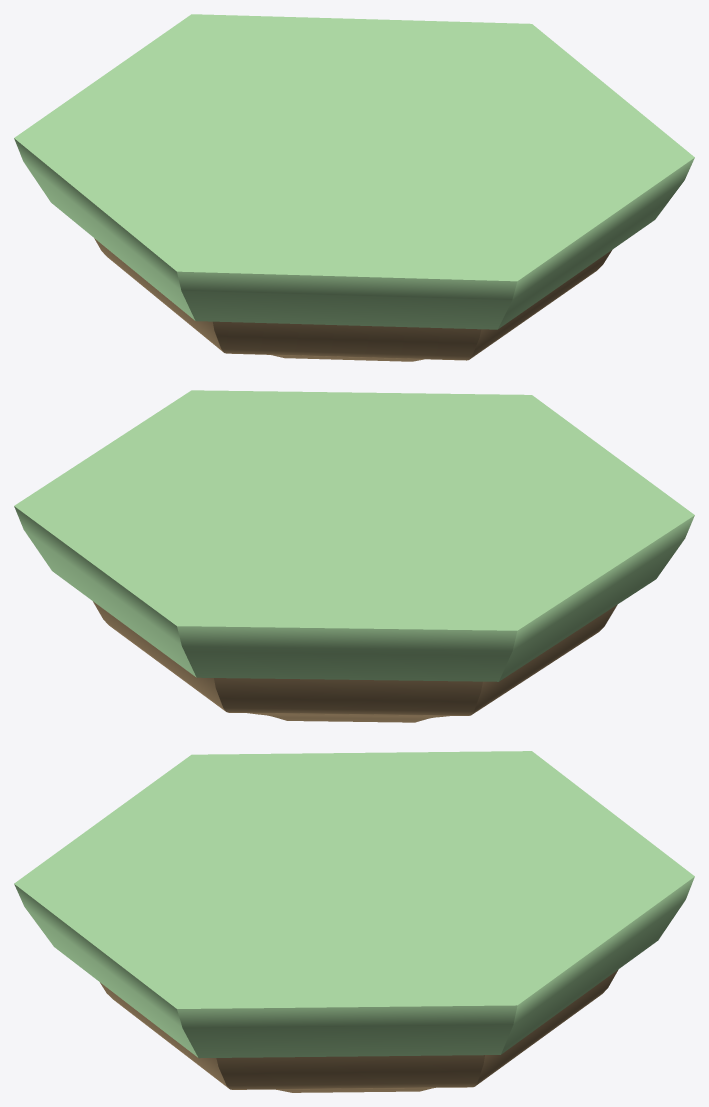
File: platform.glb
3 views of the same model, one above another, from view 1: azimuth 30°, elevation 25°; view 2: azimuth 150°, elevation 25°; view 3: azimuth 270°, elevation 25° (orthographic).
Visible parts, largest first — view 1: r.0079, r.0080; view 2: r.0079, r.0080; view 3: r.0079, r.0080.
Part boxes in pixels (x1,y1,x2,y2): r.0079: (14, 14, 694, 329); r.0080: (94, 238, 611, 361); r.0079: (14, 390, 694, 681); r.0080: (93, 601, 617, 722); r.0079: (14, 751, 694, 1058); r.0080: (100, 969, 618, 1092).
Bounding box in the file's own units: 1.13 × 0.3696 × 1.28.
